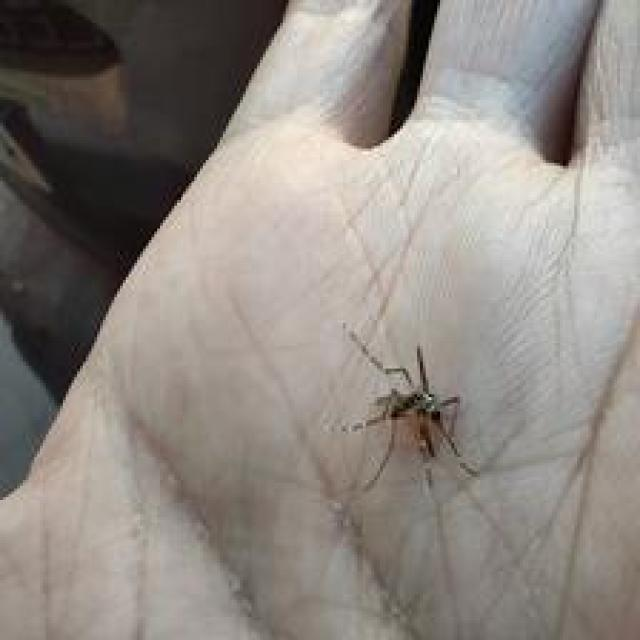Aedes albopictus: (338, 326, 482, 494)
